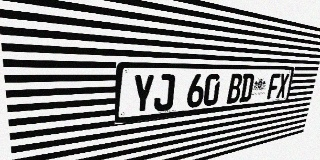0: (202, 74, 221, 106)
6: (186, 74, 206, 108)
B: (226, 74, 243, 104)
D: (239, 74, 255, 102)
F: (267, 73, 281, 99)
J: (153, 74, 175, 112)
X: (276, 73, 289, 98)
Y: (131, 74, 155, 114)
